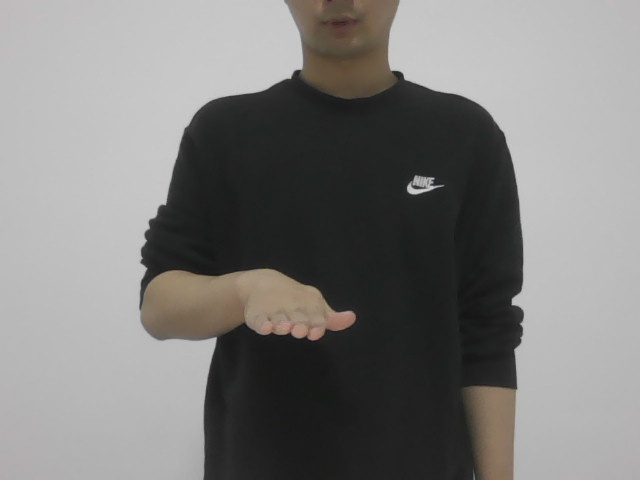slow: (239, 258, 363, 346)
